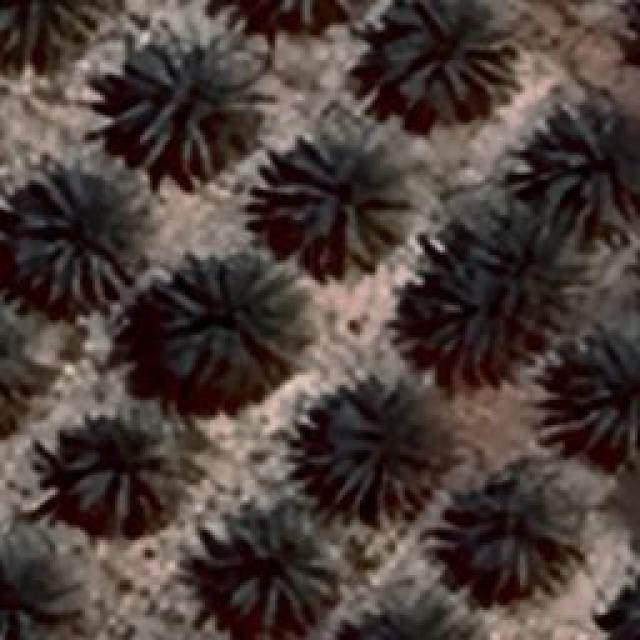PalmTree: (418, 200, 590, 375), (112, 30, 260, 175), (270, 118, 408, 272), (160, 250, 302, 388), (310, 377, 440, 525), (438, 467, 582, 595), (9, 170, 132, 310), (210, 508, 328, 632), (528, 100, 638, 232), (380, 0, 508, 110), (62, 405, 176, 520), (560, 324, 638, 458), (0, 532, 90, 640), (320, 596, 498, 640), (206, 0, 384, 37), (0, 307, 41, 445), (0, 0, 100, 52), (596, 572, 640, 640)
